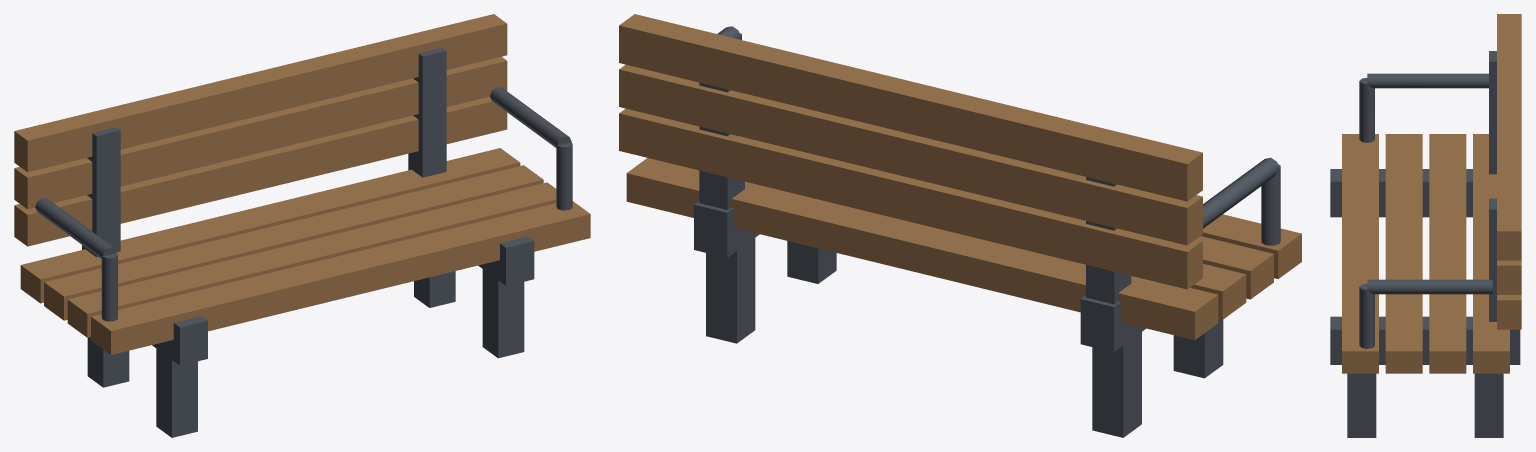
Rendered from komachi-bench.glb.
3 views of the same model, side by side, from view 1: azimuth 30°, elevation 25°; view 2: azimuth 150°, elevation 25°; view 3: azimuth 270°, elevation 25° (orthographic). The views are drawn at different scales.
Visible parts, largest first — view 1: Bench; view 2: Bench; view 3: Bench.
Boxes of the visible parts, bbox=[...] form: Bench: bbox=[14, 14, 590, 437]; Bench: bbox=[619, 14, 1301, 437]; Bench: bbox=[1330, 14, 1521, 437].
Bounding box in the file's own units: 0.46 × 0.2325 × 0.171.
